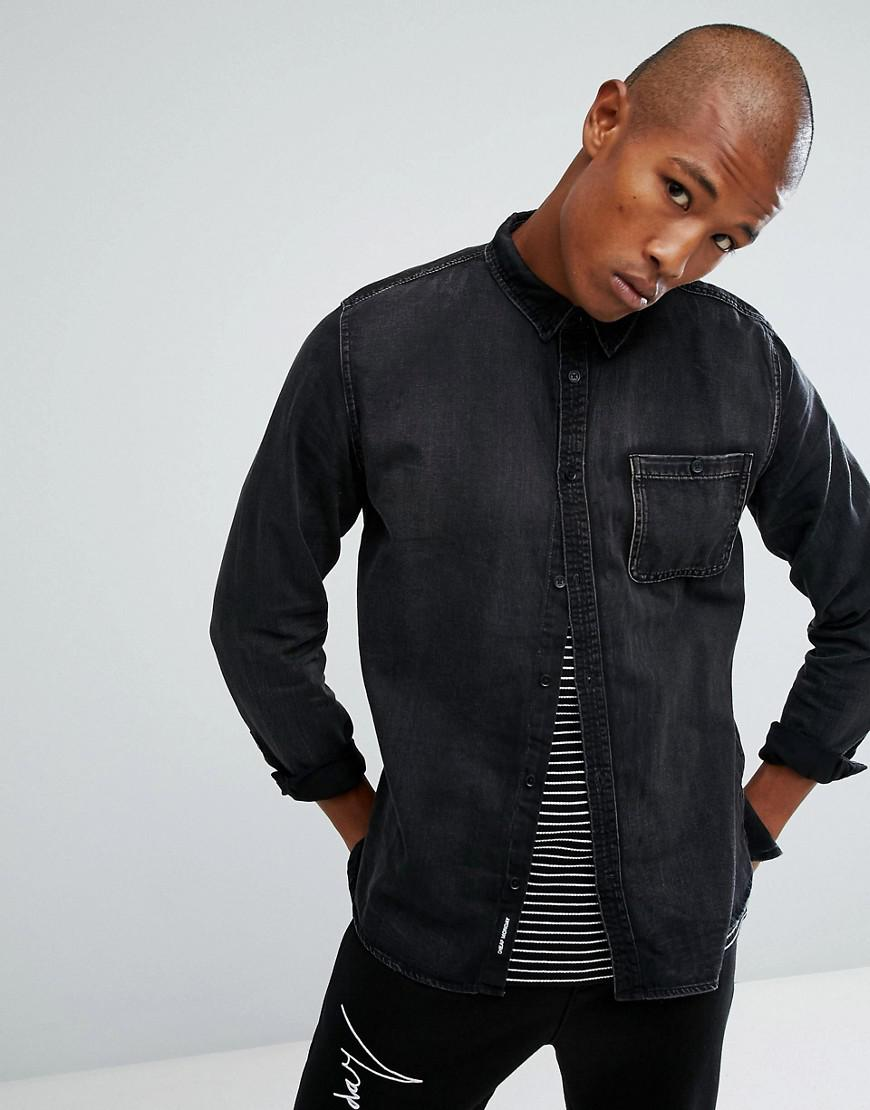teeshirt: (207, 193, 870, 1011)
